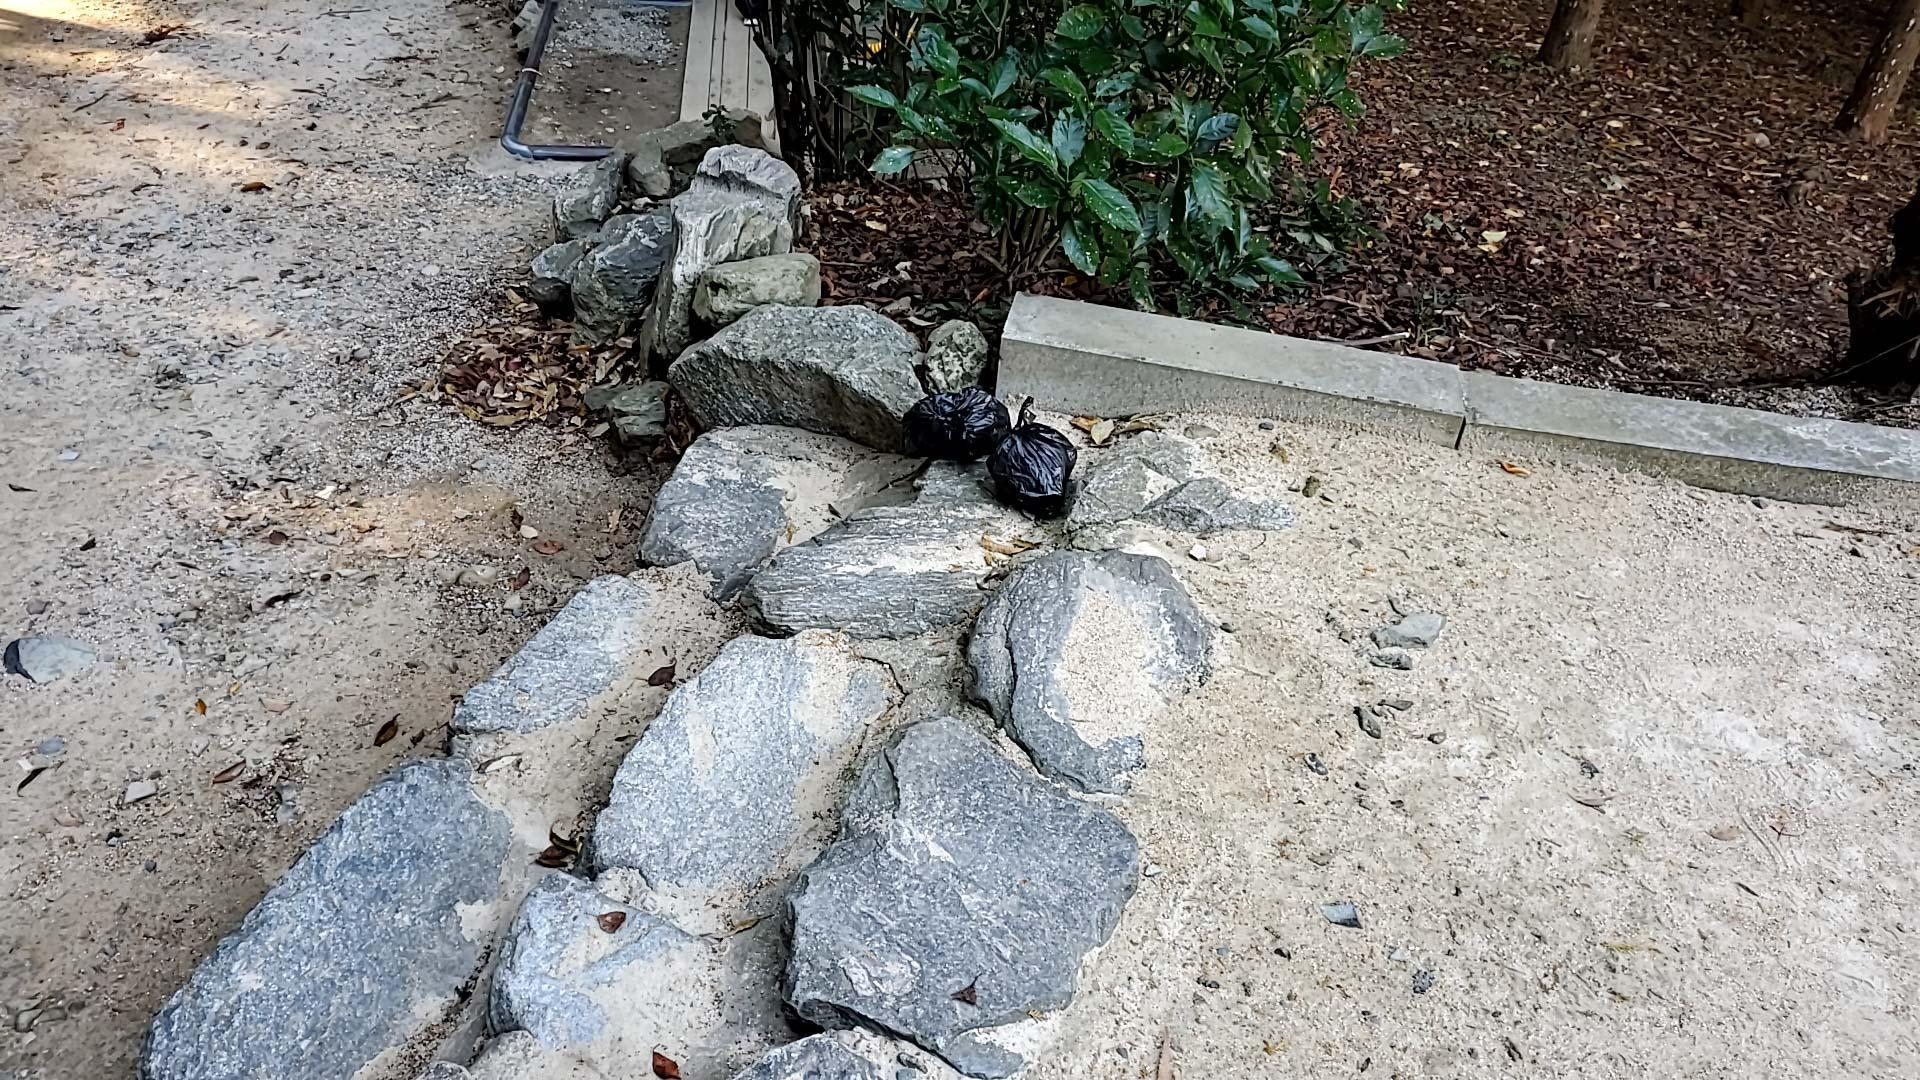black_bag: (978, 392, 1085, 522), (899, 375, 1014, 465)
